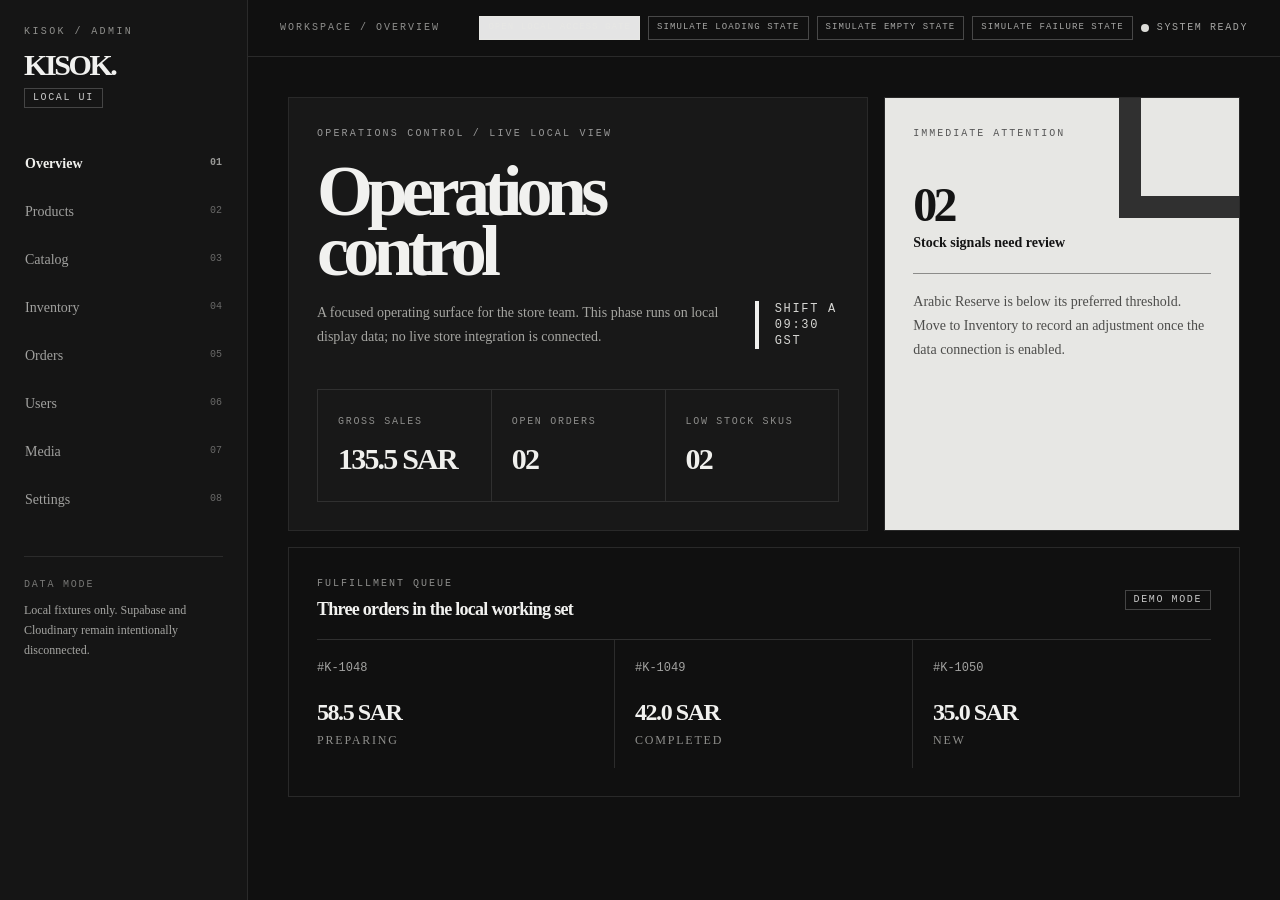
Test case: KisokAdminConsole › renders local catalog, inventory, and order records through feature navigation
Click the button "Catalog 03": {"x": 124, "y": 260} top-left (24, 236), bottom-right (223, 284)
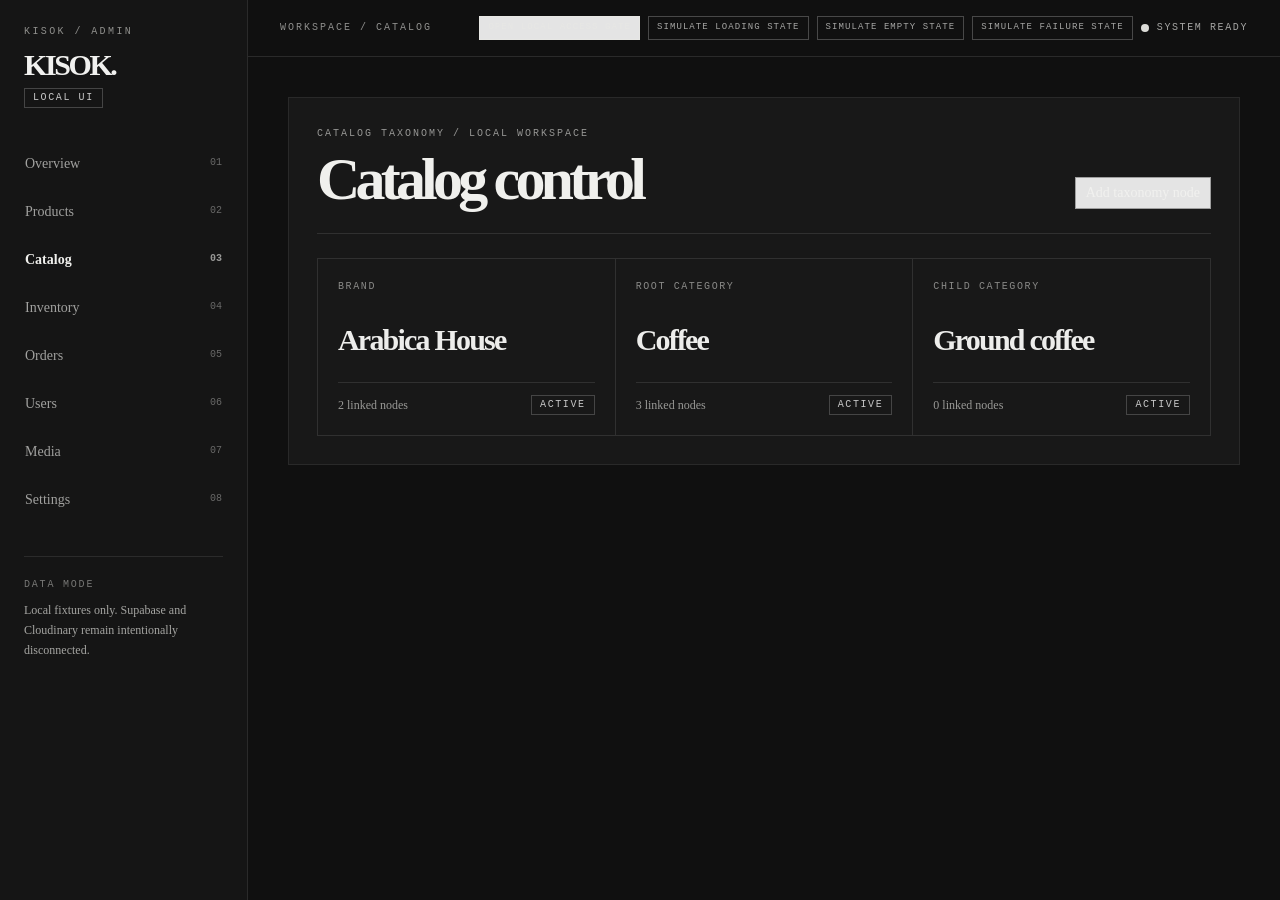
Check: the heading "Arabica House" is shown, box top-left (338, 322), bottom-right (505, 356)
Click the button "Inventory 04": {"x": 124, "y": 308} top-left (24, 284), bottom-right (223, 332)
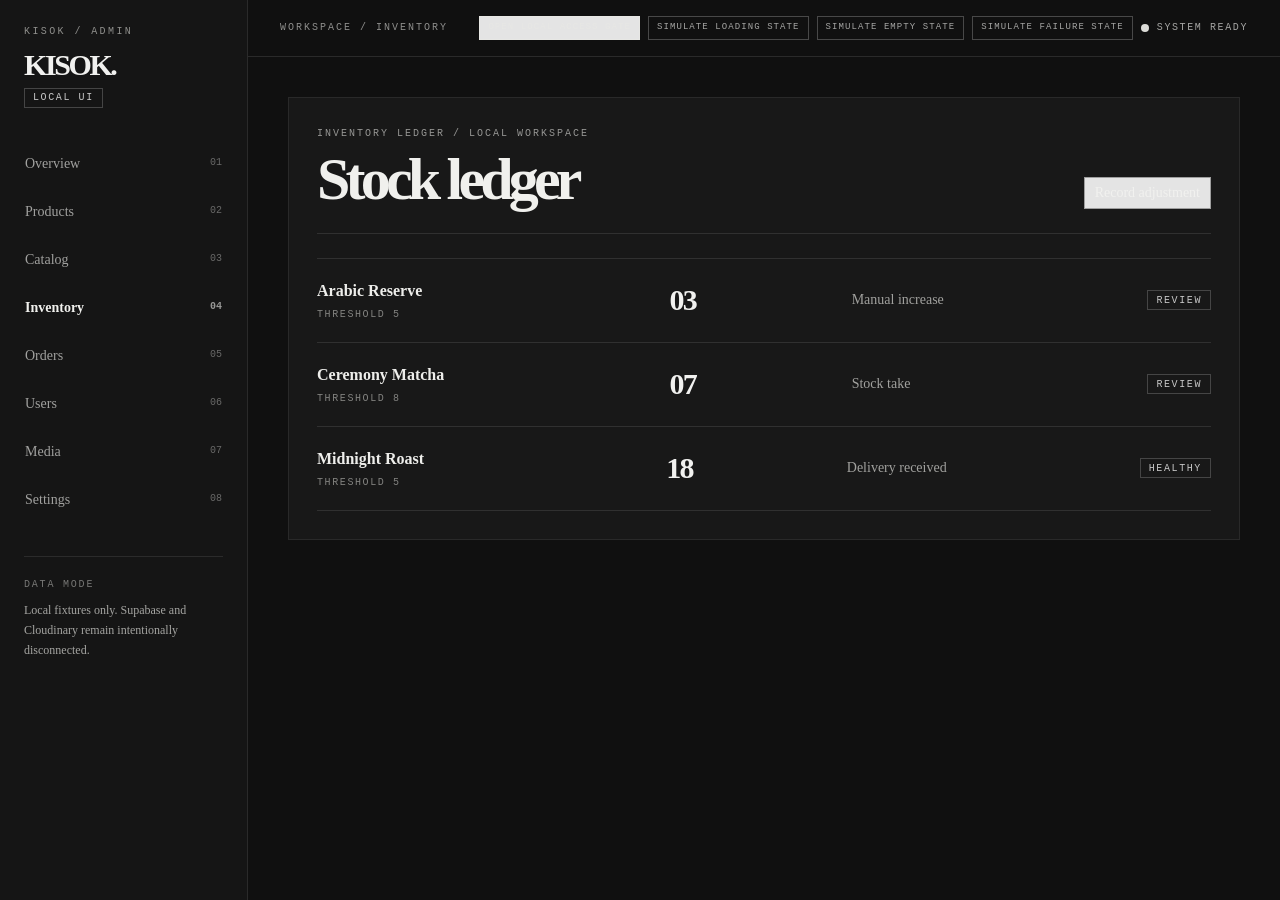
Check: the text "Manual increase" is shown, box top-left (852, 292), bottom-right (944, 307)
Click the button "Orders 05": {"x": 124, "y": 356} top-left (24, 332), bottom-right (223, 380)
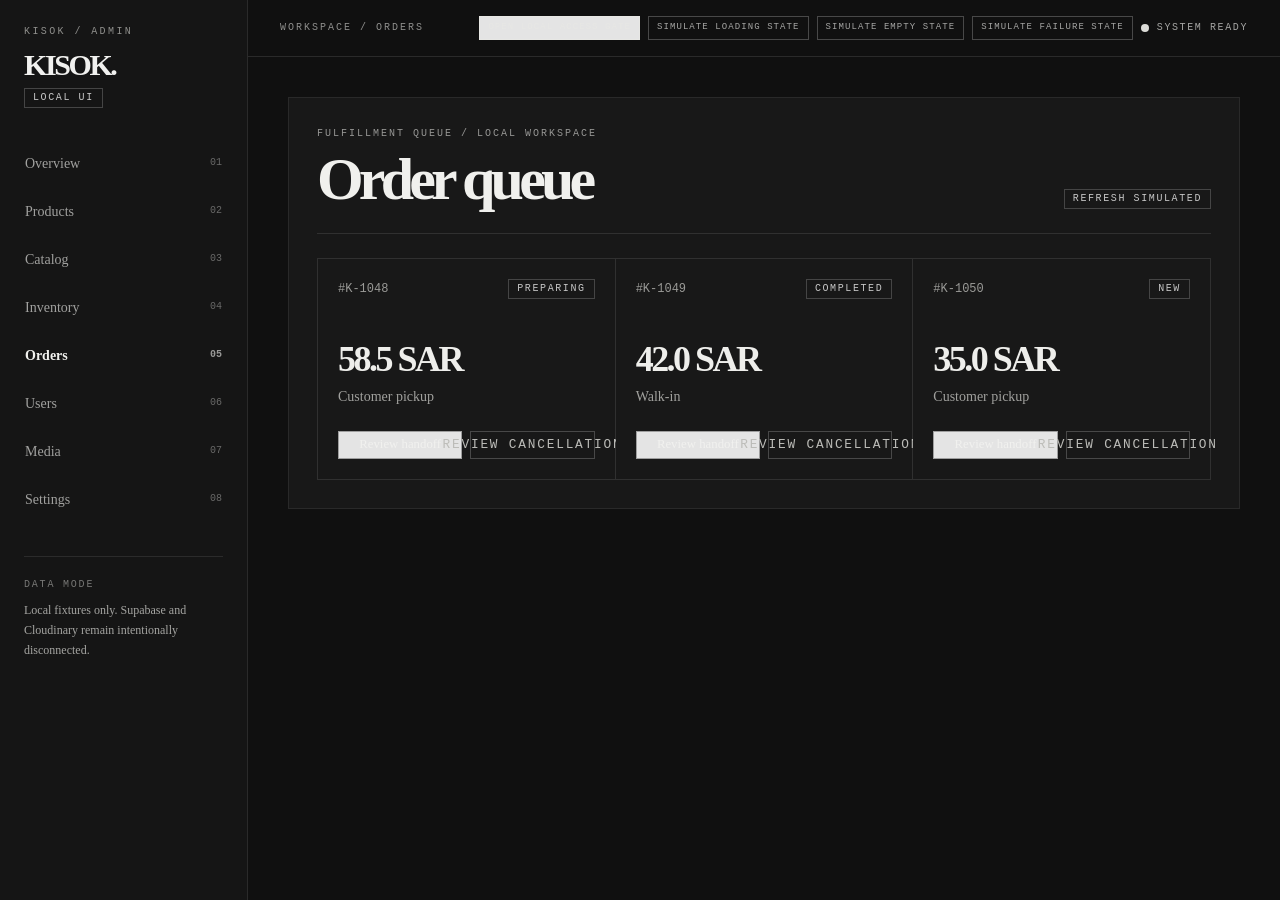
Check: the text "Customer pickup" is shown 2 times, box top-left (338, 388), bottom-right (434, 404); top-left (933, 388), bottom-right (1029, 404)
